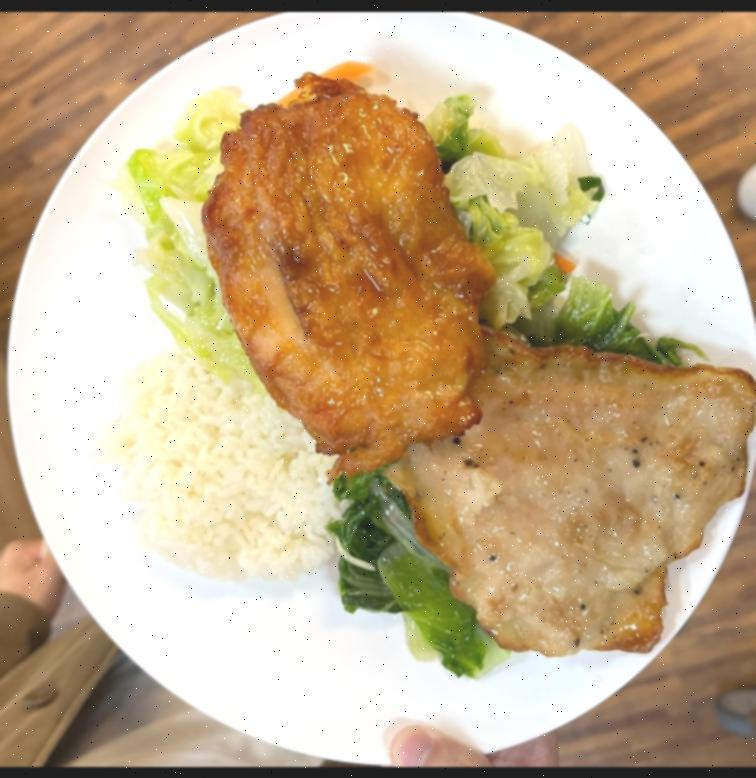grilled chicken leg steak: (208, 96, 483, 480)
grilled chicken steak: (411, 328, 752, 660)
plate: (9, 13, 756, 767)
side dish: (119, 79, 579, 366), (326, 303, 665, 666)
white rice: (101, 345, 336, 582)
